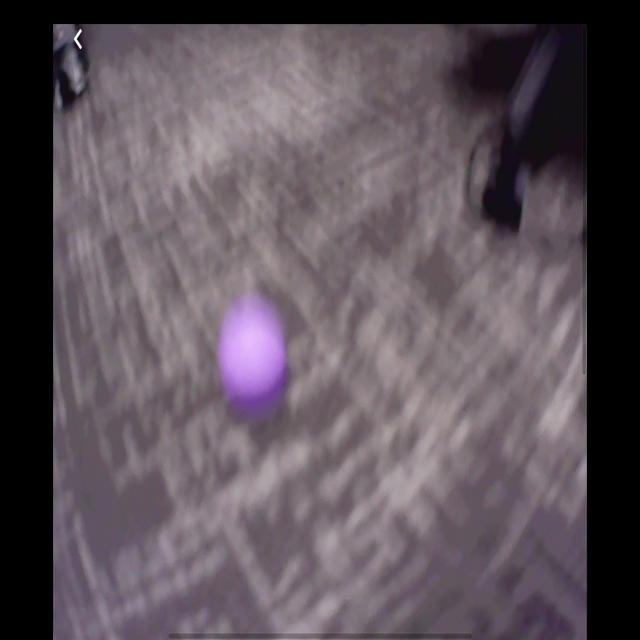ball: (218, 291, 289, 408)
